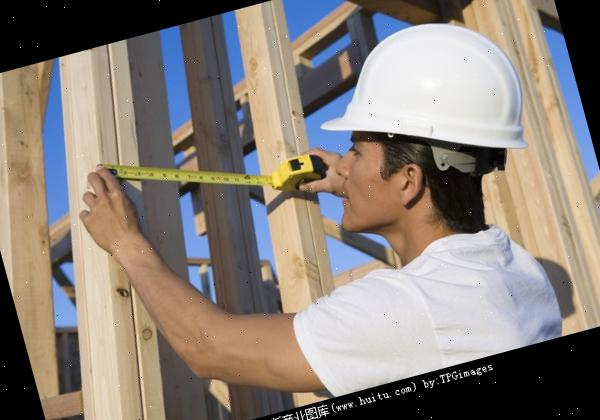helmet: (302, 4, 552, 206)
no_wear: (279, 212, 568, 404)
